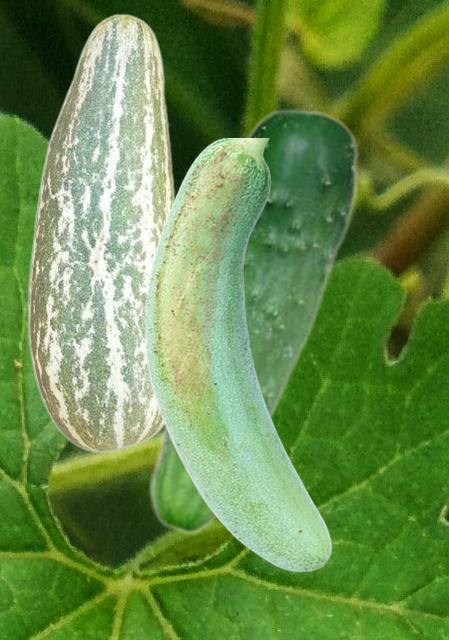cucumber: (146, 108, 359, 534), (144, 138, 331, 571), (27, 13, 176, 452)
